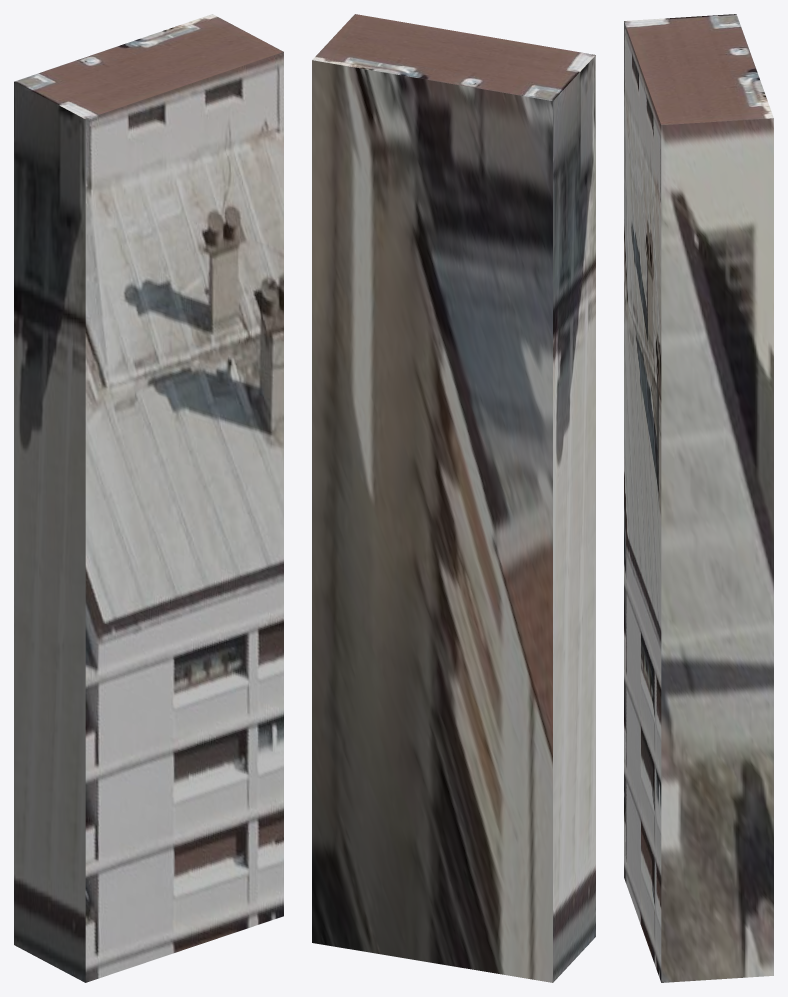
The picture shows the model from 3 angles, left to right: view 1: azimuth 30°, elevation 25°; view 2: azimuth 150°, elevation 25°; view 3: azimuth 270°, elevation 25°; orthographic projection. The views are drawn at different scales.
Visible parts, largest first — view 1: Z_UP; view 2: Z_UP; view 3: Z_UP.
Part boxes in pixels (x1=…): Z_UP: x1=14, y1=14, x2=283, y2=982; Z_UP: x1=312, y1=14, x2=595, y2=982; Z_UP: x1=624, y1=14, x2=773, y2=982.
Size of the model in its own units: 7.12 by 25.37 by 4.02.
Materials: 2 (1 with a texture image).
